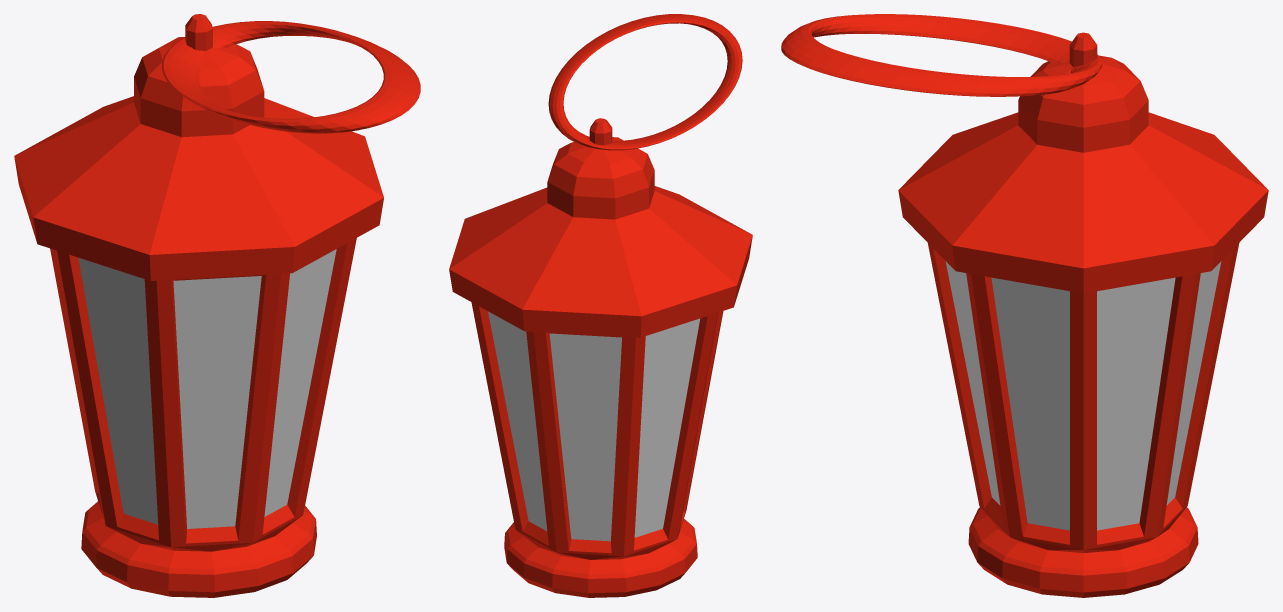
Rendered from Lantern.fbx.
3 renders of one model, left to right at view 1: azimuth 30°, elevation 25°; view 2: azimuth 150°, elevation 25°; view 3: azimuth 270°, elevation 25°, orthographic. The views are drawn at different scales.
Visible parts, largest first — view 1: Cylinder, Torus; view 2: Cylinder, Torus; view 3: Cylinder, Torus.
Boxes of the visible parts, x1,y1,x2,y2 form: Cylinder: (14,14,383,597); Torus: (162,21,420,133); Cylinder: (449,118,752,597); Torus: (548,14,742,150); Cylinder: (898,32,1268,597); Torus: (781,14,1102,96).
Bounding box in the file's own units: 379 × 603 × 499.
